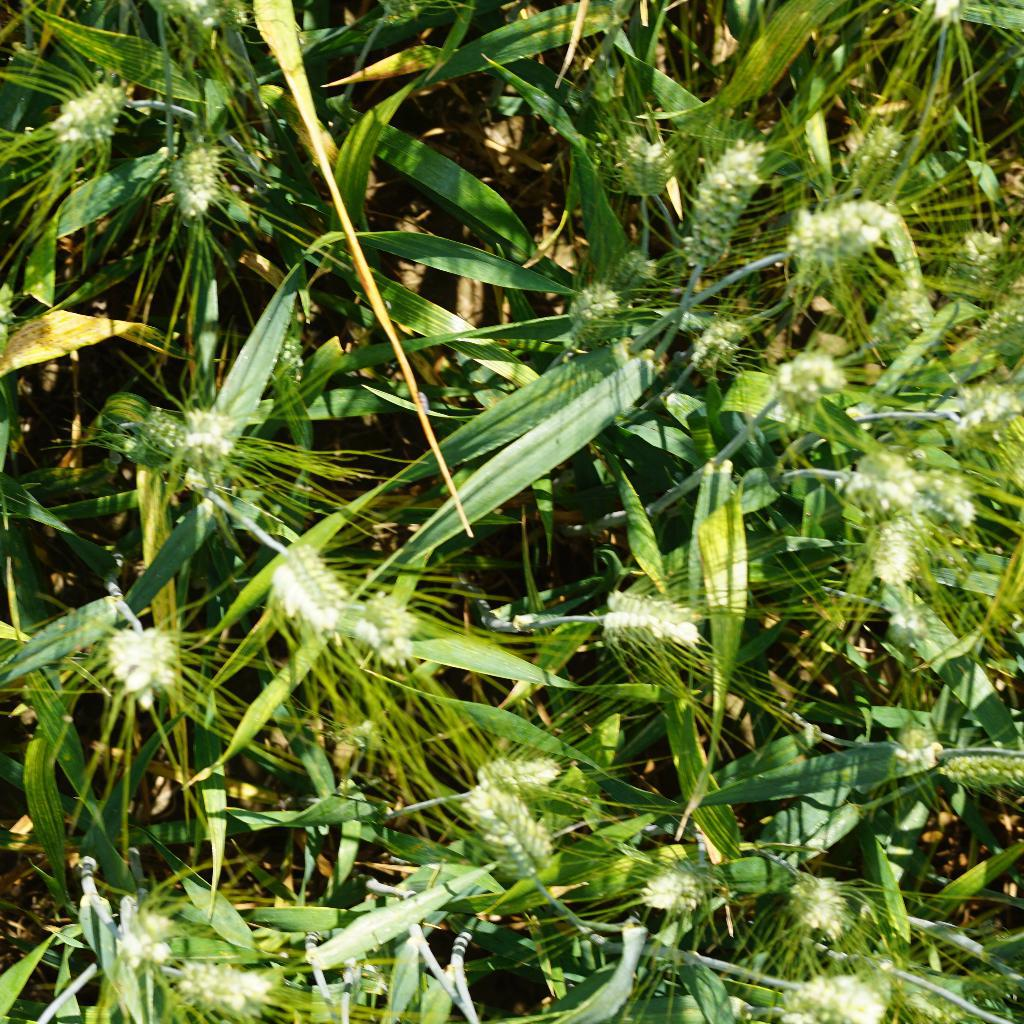0-0: (668, 119, 770, 291), (766, 185, 908, 287), (832, 448, 979, 531), (464, 777, 556, 890), (148, 946, 280, 1021), (43, 67, 141, 167), (257, 534, 352, 636), (825, 112, 931, 198), (586, 578, 706, 653), (781, 859, 879, 948), (768, 961, 903, 1024), (161, 135, 239, 228), (467, 736, 575, 802), (769, 348, 860, 426), (603, 122, 681, 212), (101, 615, 171, 713), (354, 582, 430, 671), (621, 858, 722, 923), (869, 505, 938, 597), (879, 963, 983, 1024), (939, 219, 1016, 301), (168, 395, 250, 470), (935, 736, 1024, 800), (698, 305, 770, 380), (120, 403, 198, 468), (112, 900, 182, 971), (565, 266, 623, 348), (960, 295, 1024, 364), (865, 284, 935, 347), (596, 242, 667, 304), (947, 382, 1024, 438), (261, 325, 315, 401), (321, 709, 392, 758), (887, 720, 937, 776), (881, 607, 937, 652)
